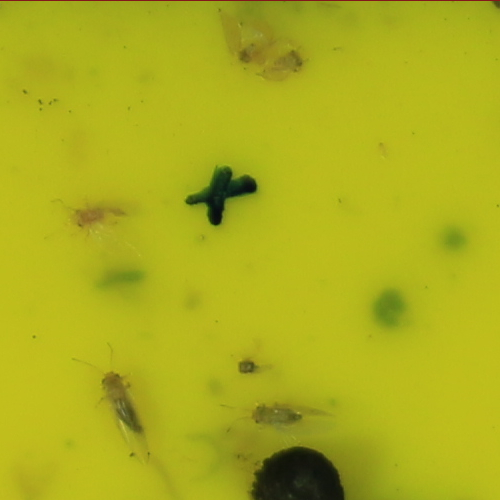Glycaspis: (99, 371, 146, 438), (251, 402, 306, 424)
Platyobria: (236, 35, 267, 64), (272, 52, 307, 74)
